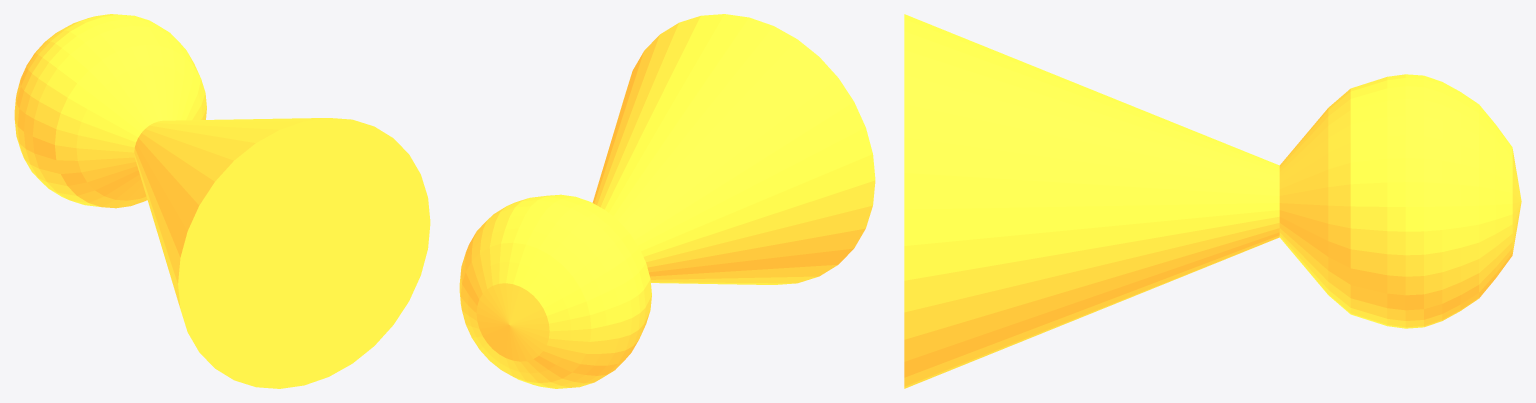
File: Spieler_Test.fbx
The picture shows the model from 3 angles, left to right: view 1: azimuth 30°, elevation 25°; view 2: azimuth 150°, elevation 25°; view 3: azimuth 270°, elevation 25°; orthographic projection. The views are drawn at different scales.
Visible parts, largest first — view 1: Cylinder; view 2: Cylinder; view 3: Cylinder.
Part boxes in pixels (x1,y1,x2,y2): Cylinder: (14, 14, 430, 388); Cylinder: (459, 14, 875, 388); Cylinder: (904, 14, 1521, 388).
Size of the model in its own units: 1 by 1 by 1.64.
